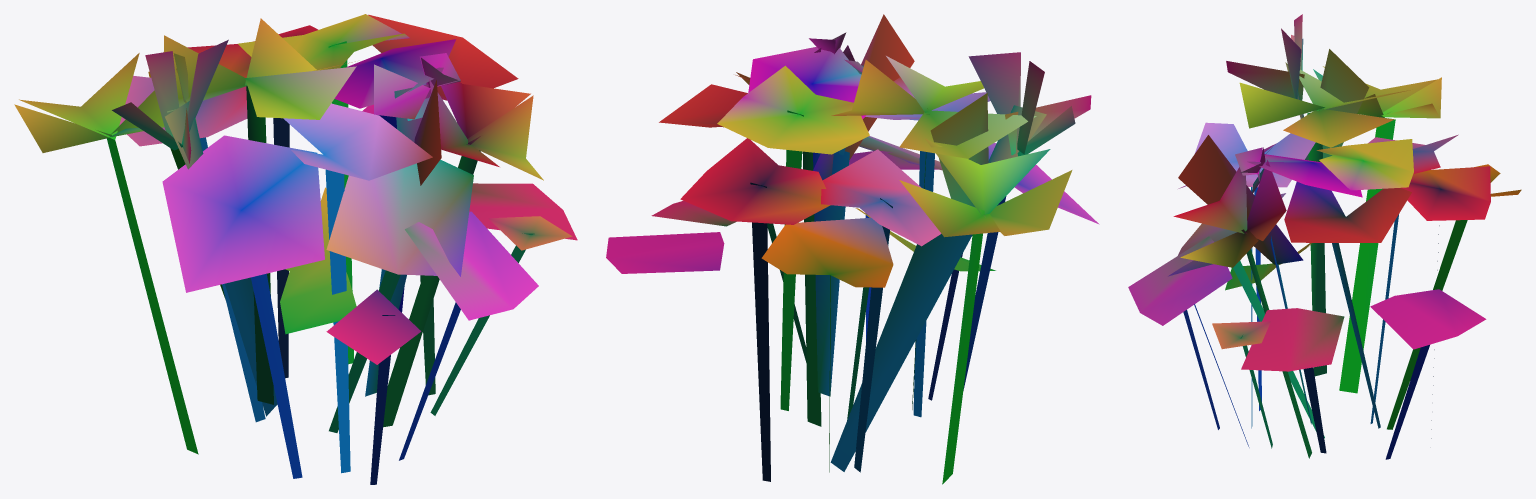
Rendered from Purple_Shamrock_rjrrH_Mid_rjrrH_VarC_LOD2.fbx.
The picture shows the model from 3 angles, left to right: view 1: azimuth 30°, elevation 25°; view 2: azimuth 150°, elevation 25°; view 3: azimuth 270°, elevation 25°; orthographic projection. The views are drawn at different scales.
Visible parts, largest first — view 1: _8bf9_VarC_LOD3; view 2: _8bf9_VarC_LOD3; view 3: _8bf9_VarC_LOD3.
Boxes of the visible parts, <box> form: _8bf9_VarC_LOD3: <box>14,14,577,484</box>; _8bf9_VarC_LOD3: <box>606,14,1099,484</box>; _8bf9_VarC_LOD3: <box>1128,14,1521,459</box>.
Bounding box in the file's own units: 40.44 × 36.83 × 37.33.
